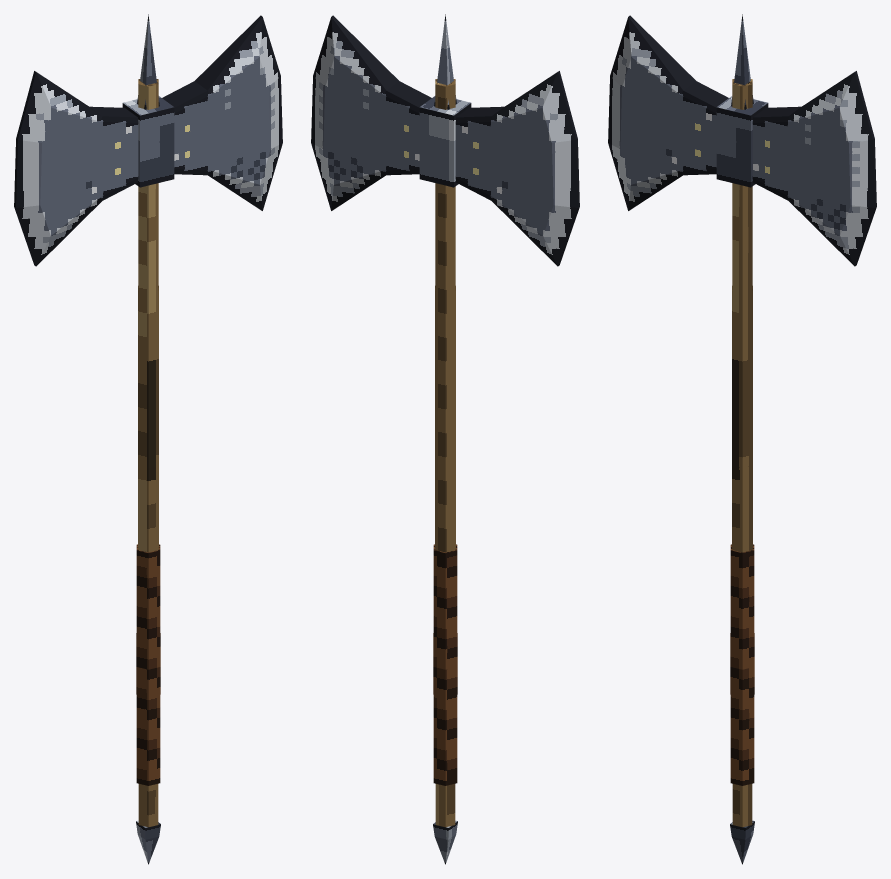
Rendered from axe_2h_battle.glb.
3 renders of one model, left to right at view 1: azimuth 30°, elevation 25°; view 2: azimuth 150°, elevation 25°; view 3: azimuth 330°, elevation 25°, orthographic.
Parts seen in each view (by area): view 1: axe_2h_battle; view 2: axe_2h_battle; view 3: axe_2h_battle.
Part boxes in pixels (x1=…): axe_2h_battle: x1=14, y1=14, x2=282, y2=864; axe_2h_battle: x1=311, y1=14, x2=579, y2=864; axe_2h_battle: x1=608, y1=14, x2=876, y2=864.
Size of the model in its own units: 0.66 by 2.01 by 0.075.
Materials: 1 (1 with a texture image).
